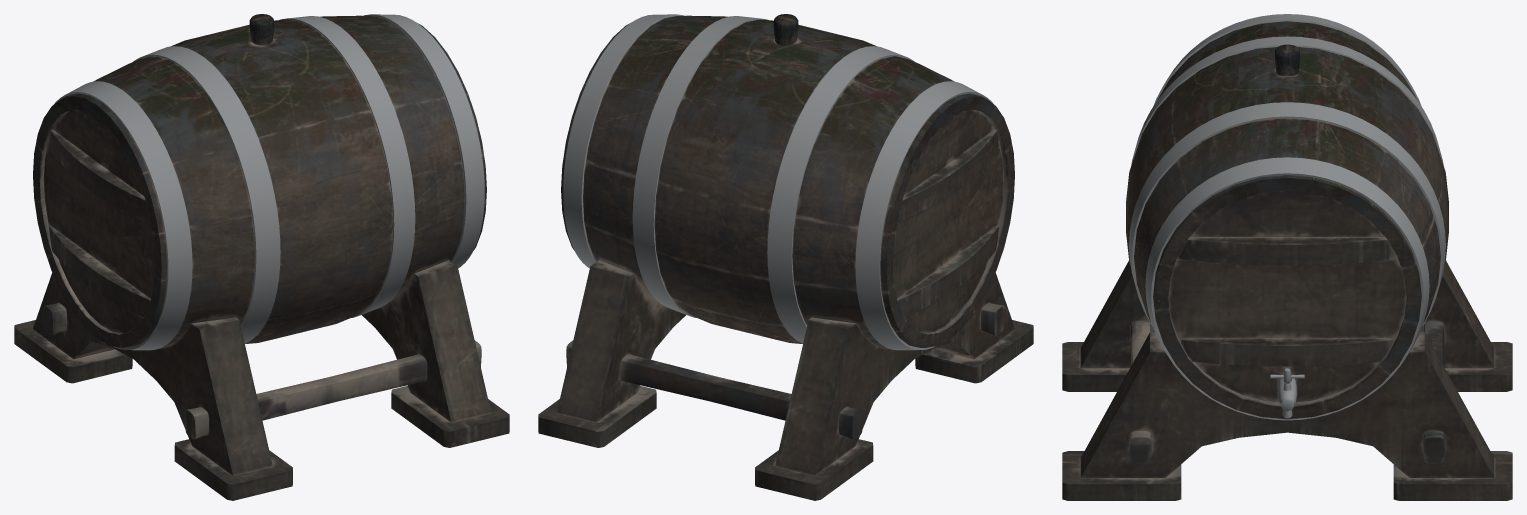
File: barel_02.glb
3 views of the same model, side by side, from view 1: azimuth 30°, elevation 25°; view 2: azimuth 150°, elevation 25°; view 3: azimuth 270°, elevation 25° (orthographic). The views are drawn at different scales.
Visible parts, largest first — view 1: bochka_low, kolca_low, nog_low, krushka_low, poduski_low, palka_low, stavnI_low, probka_low; view 2: bochka_low, kolca_low, nog_low, krushka_low, poduski_low, palka_low, stavnI_low, probka_low; view 3: bochka_low, nog_low, krushka_low, kolca_low, stavnI_low, poduski_low, palka_low, probka_low, Kran3_low.
Part boxes in pixels (x1,y1,x2,y2): bochka_low: (33,15,486,348); kolca_low: (54,14,484,350); nog_low: (33,260,491,475); krushka_low: (43,109,154,333); poduski_low: (14,320,509,500); palka_low: (42,303,481,439); stavnI_low: (48,129,150,317); probka_low: (249,14,274,45); bochka_low: (561,15,1014,348); kolca_low: (563,14,993,350); nog_low: (556,260,1014,475); krushka_low: (893,109,1004,333); poduski_low: (538,320,1033,500); palka_low: (566,303,1005,439); stavnI_low: (897,129,999,317); probka_low: (773,14,798,45); bochka_low: (1126,21,1448,419); nog_low: (1080,261,1494,477); krushka_low: (1168,190,1406,402); kolca_low: (1129,14,1445,420); stavnI_low: (1177,237,1397,366); poduski_low: (1062,342,1512,500); palka_low: (1129,321,1445,463); probka_low: (1275,44,1299,76); Kran3_low: (1277,374,1297,411).
Size of the model in its own units: 1.99 by 1.89 by 2.03.
Materials: 1 (1 with a texture image).
